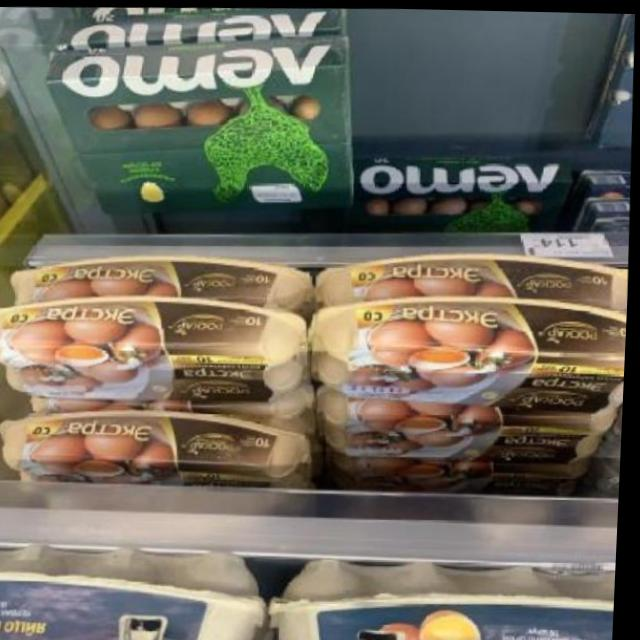Egg: (313, 291, 630, 414), (0, 293, 308, 405), (0, 398, 314, 492), (316, 385, 615, 466), (315, 246, 631, 312)
